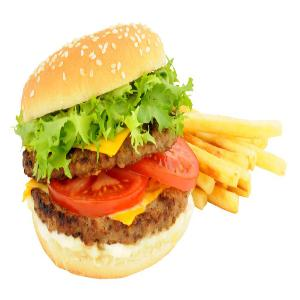cheeseburger_475cal: (12, 29, 197, 282)
